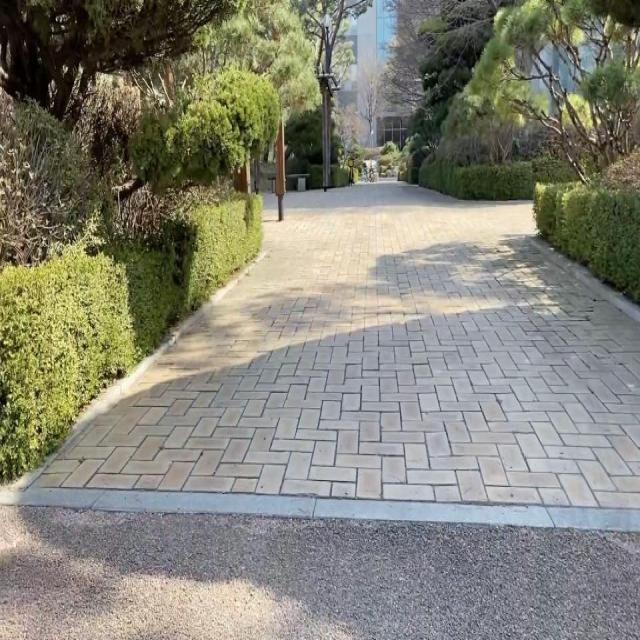sidewalk: (0, 506, 640, 638)
